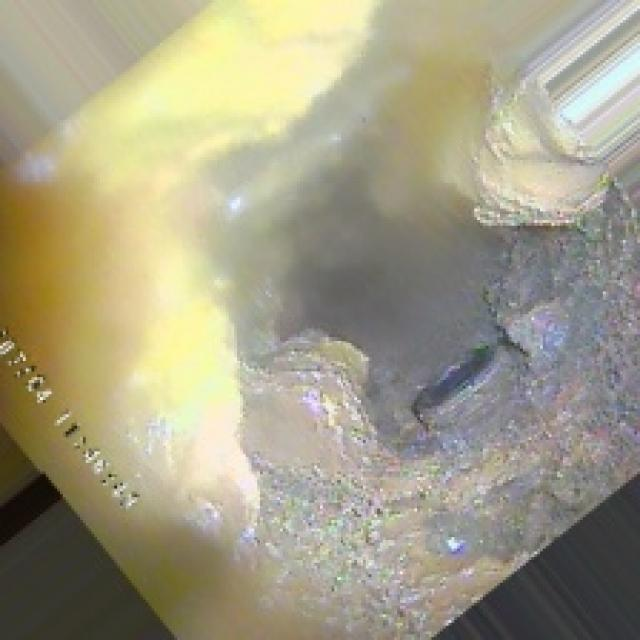encrustation: (260, 134, 614, 489)
ferrule: (403, 337, 491, 429)
